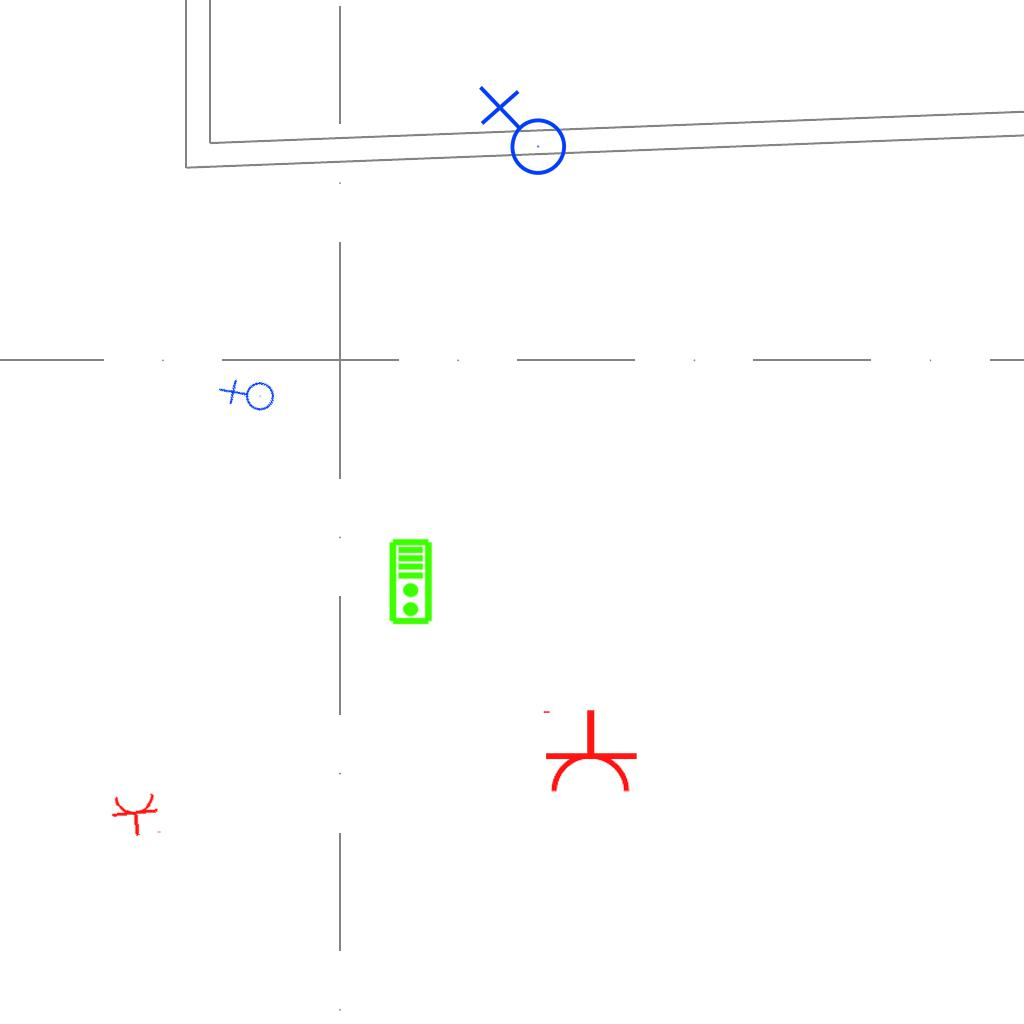Elektroanschluss_allgemein_230V_Geraeteanschlussdose_230V: (474, 85, 568, 184), (216, 362, 283, 431)
Gegensprechanlage_mit_Video: (388, 538, 435, 626)
Schukosteckdose_einfach: (539, 708, 639, 795), (109, 791, 164, 839)
